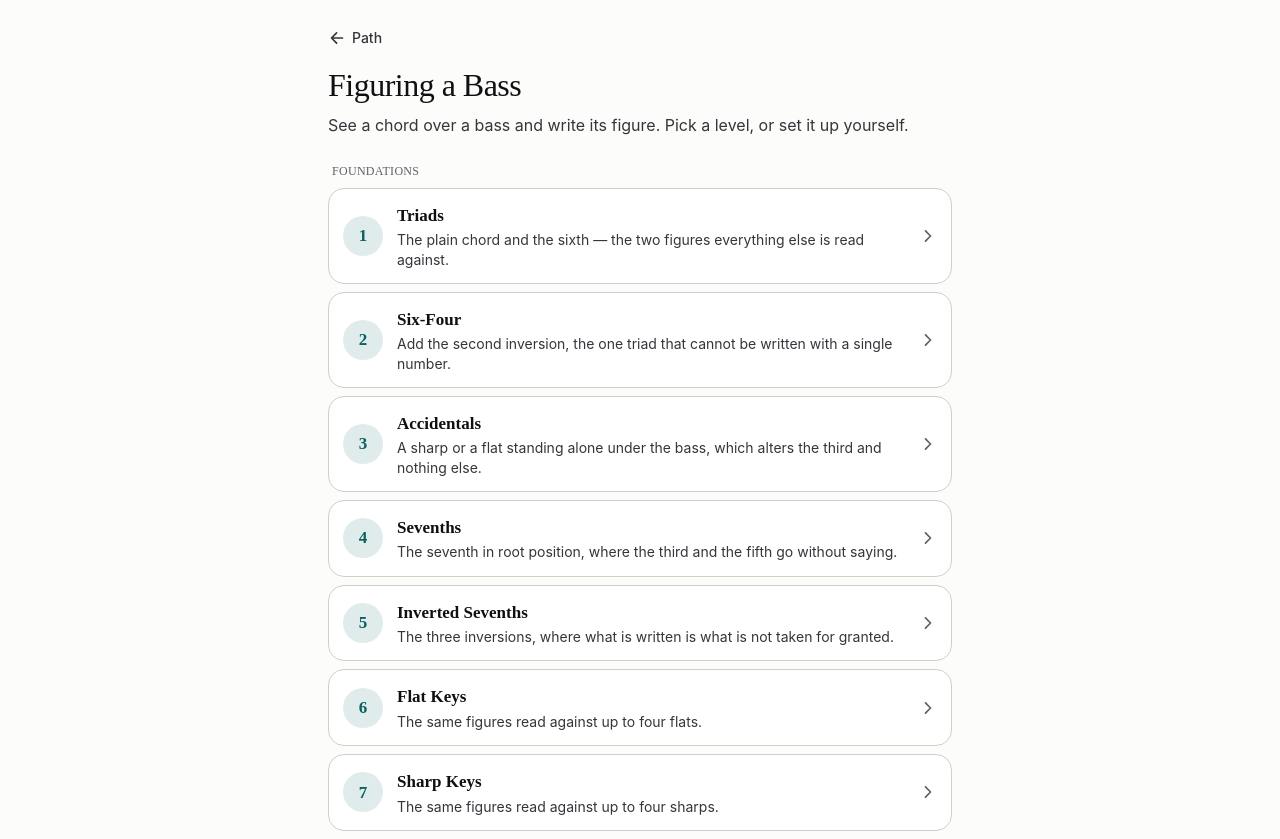
figuring a bass › answers the moment done is pressed, with nothing typed
This screenshot has width=1280, height=839.
Expected: the text "Triads" is shown, [397,206,444,225]
Click the button "Triads": click(640, 236) [328,188,952,284]
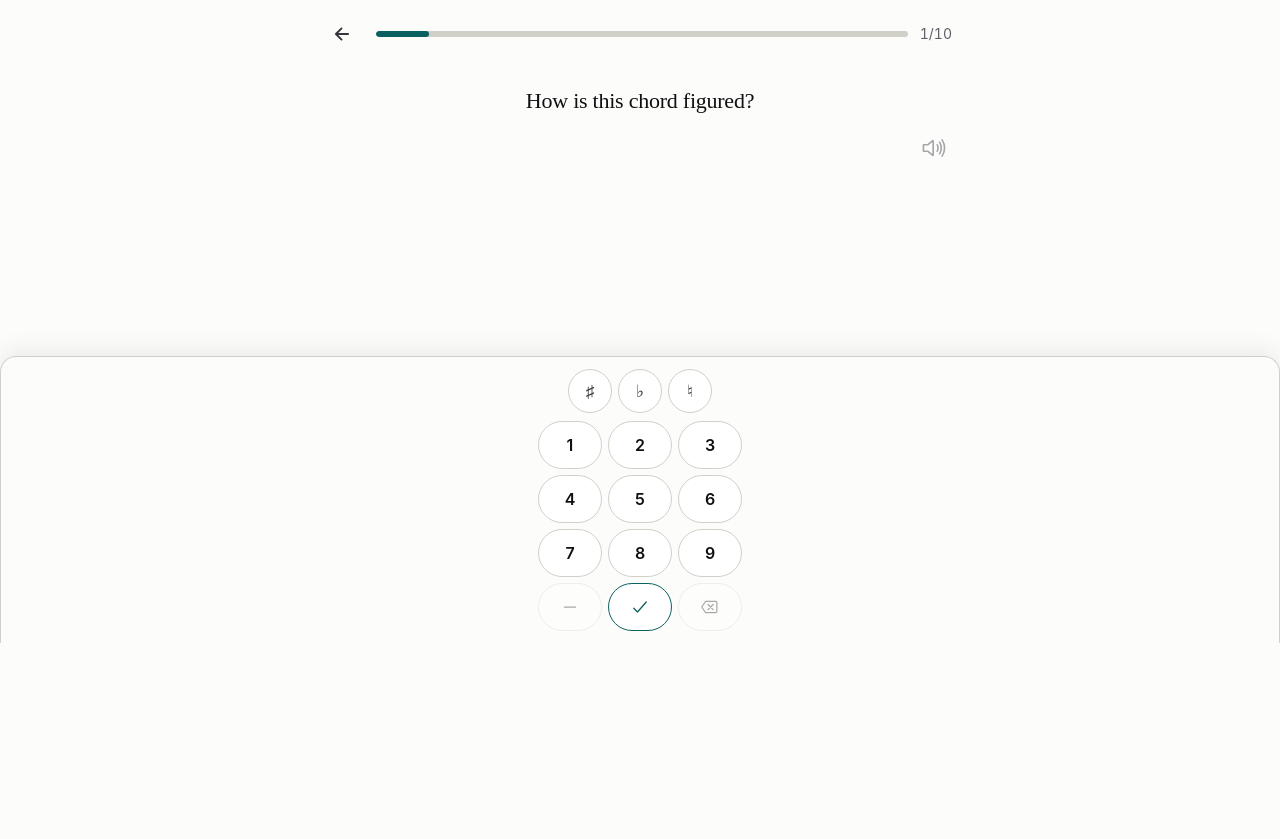
Expected: the heading "How is this chord figured?" is shown, [526,88,754,114]
Click the 3rd button named "That is the figure": click(640, 607) [608,583,672,631]
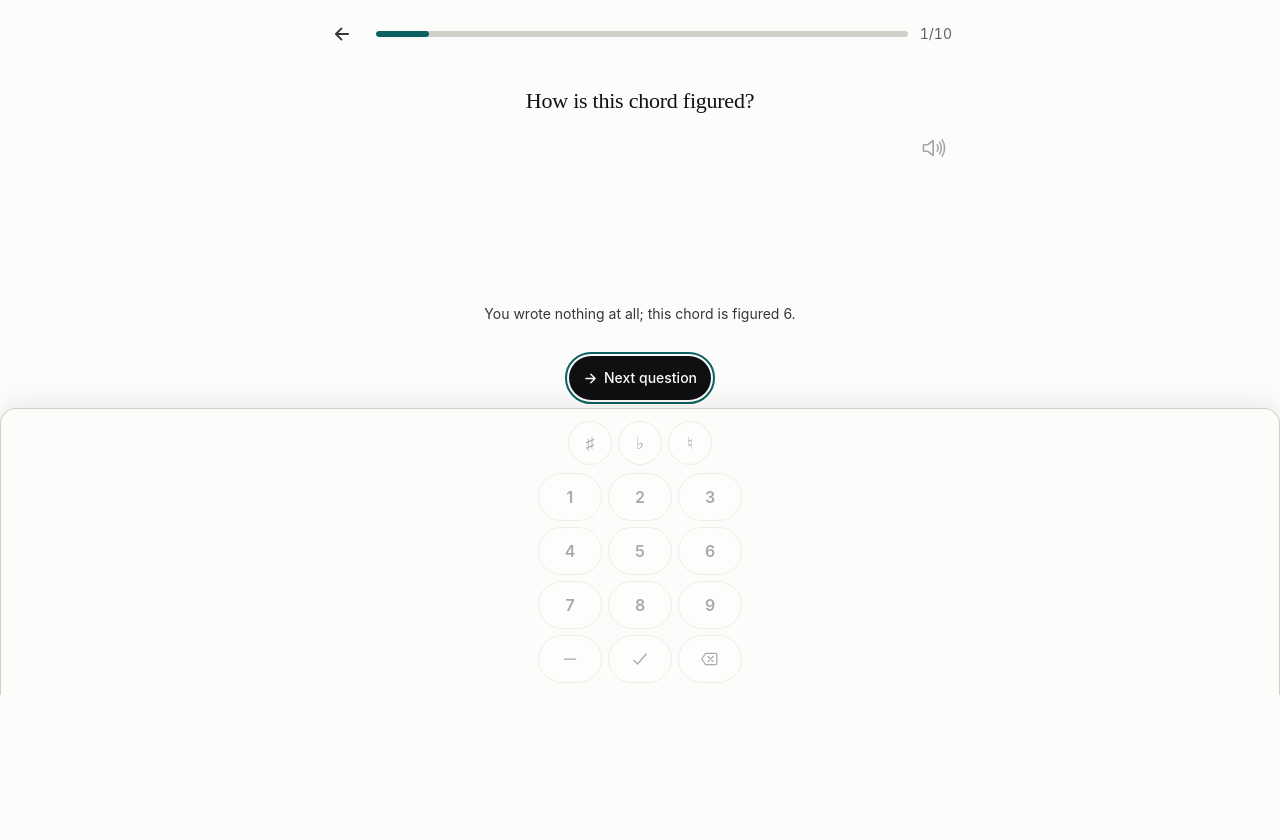
Expected: the button "Next question" is shown, [569,356,711,400]
